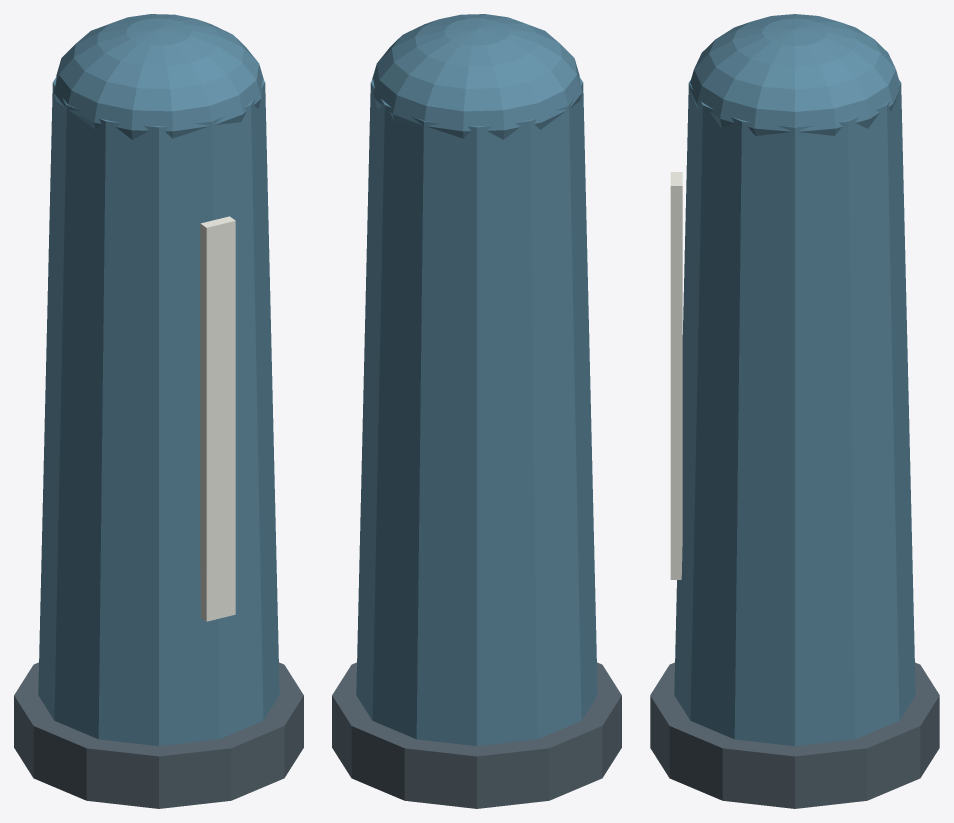
Rendered from american-football-stadium-kit-tackling-dummy-0aa94af5__22379.glb.
3 views of the same model, side by side, from view 1: azimuth 30°, elevation 25°; view 2: azimuth 150°, elevation 25°; view 3: azimuth 270°, elevation 25° (orthographic).
Parts seen in each view (by area): view 1: tackling-dummy; view 2: tackling-dummy; view 3: tackling-dummy.
Part boxes in pixels (x1,y1,x2,y2): tackling-dummy: [14, 14, 303, 808]; tackling-dummy: [332, 14, 621, 808]; tackling-dummy: [650, 14, 939, 808].
Size of the model in its own units: 0.6 by 1.64 by 0.6.
